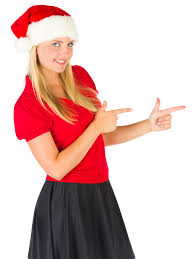hand: (85, 95, 139, 143), (146, 94, 194, 138)
